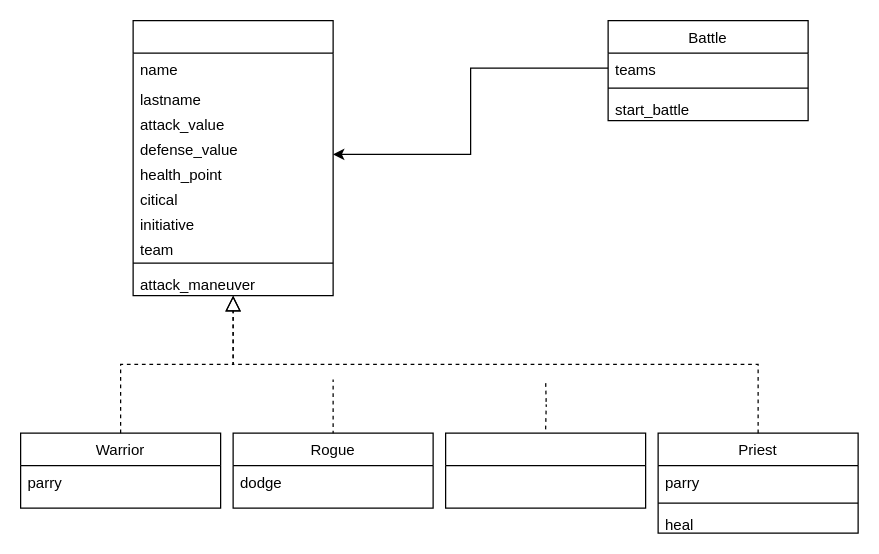
The diagram is 879 pixels wide and 554 high, and some of its shapes have lost their labels. Here are the shapes that lost their labels. From the top down, the box of each, then its label:
(132, 19, 333, 296): FighterInterface
(444, 432, 646, 508): Wizard
